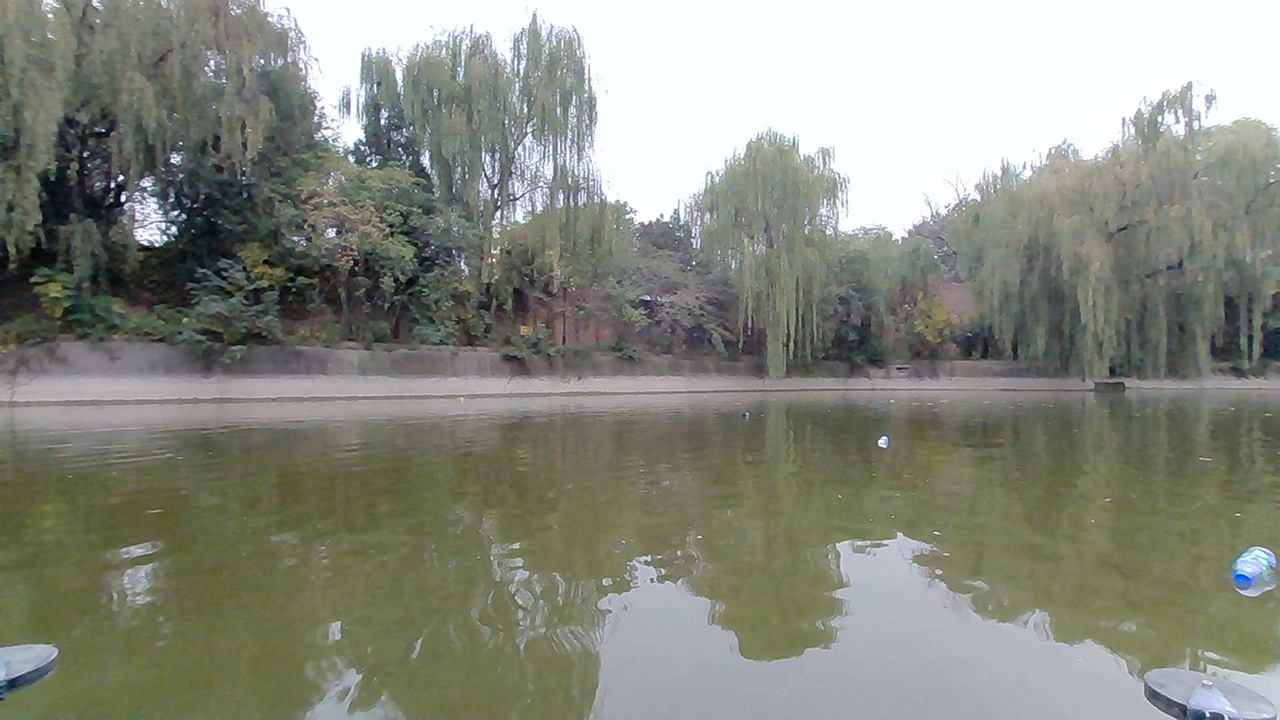bottle: (1218, 546, 1276, 596), (863, 427, 902, 456), (731, 400, 759, 426)
